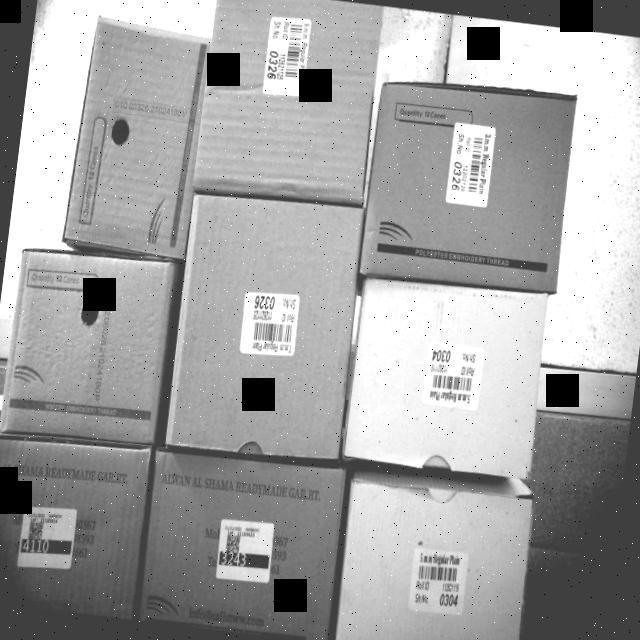box: (162, 188, 366, 464), (360, 72, 578, 299), (344, 273, 555, 482), (190, 0, 390, 210), (132, 444, 345, 640), (60, 14, 214, 265), (0, 245, 173, 442), (334, 473, 537, 640), (0, 430, 151, 618)
